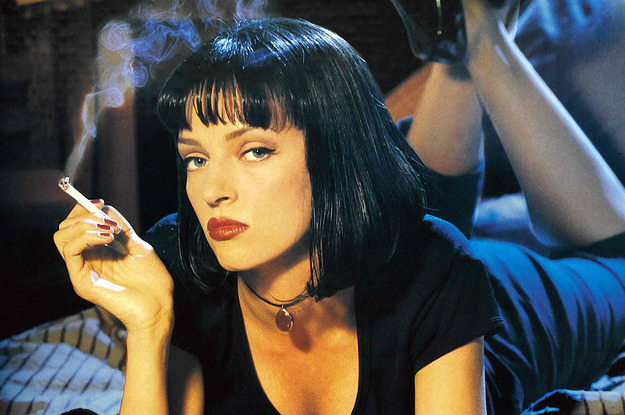cigarette: (50, 173, 117, 231)
